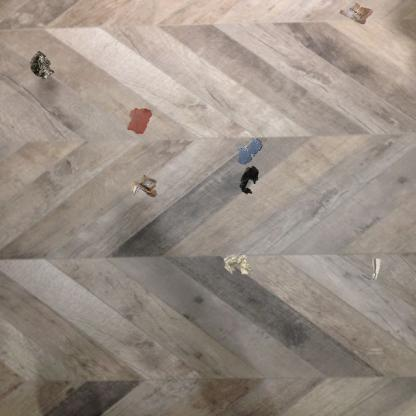dirty: (337, 0, 376, 27), (236, 163, 260, 197), (129, 174, 160, 200), (29, 50, 55, 79), (358, 256, 384, 284), (223, 252, 253, 276)
liquid: (126, 107, 154, 136), (236, 138, 263, 166)
